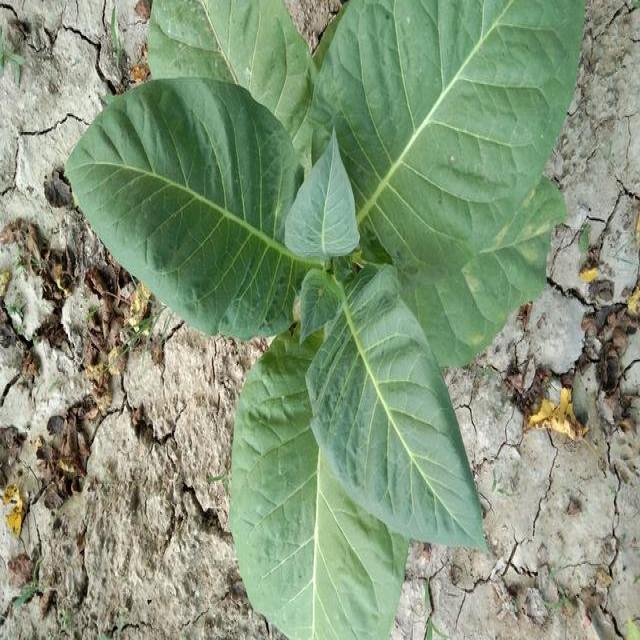crop: (66, 0, 572, 640)
